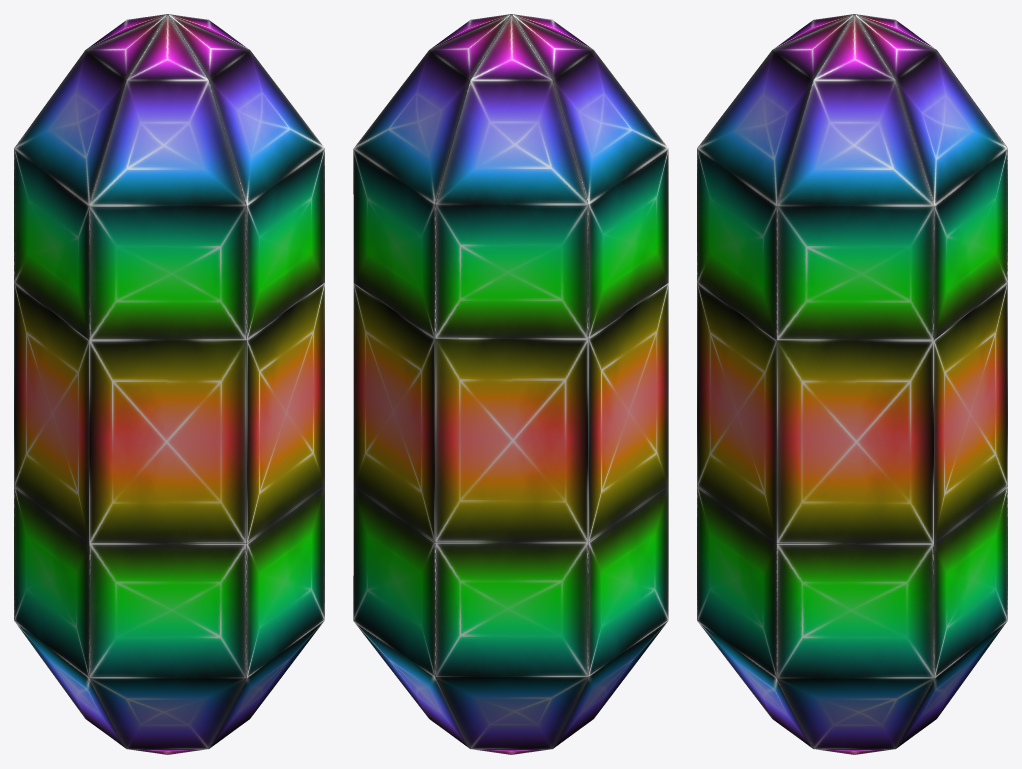
File: Crystal15.FBX
3 views of the same model, side by side, from view 1: azimuth 30°, elevation 25°; view 2: azimuth 150°, elevation 25°; view 3: azimuth 270°, elevation 25° (orthographic).
Parts seen in each view (by area): view 1: Crystal15; view 2: Crystal15; view 3: Crystal15.
Part boxes in pixels (x1,y1,x2,y2): Crystal15: (14, 14, 324, 754); Crystal15: (353, 14, 668, 754); Crystal15: (697, 14, 1007, 754).
Bounding box in the file's own units: 15.76 × 47.29 × 17.98.
